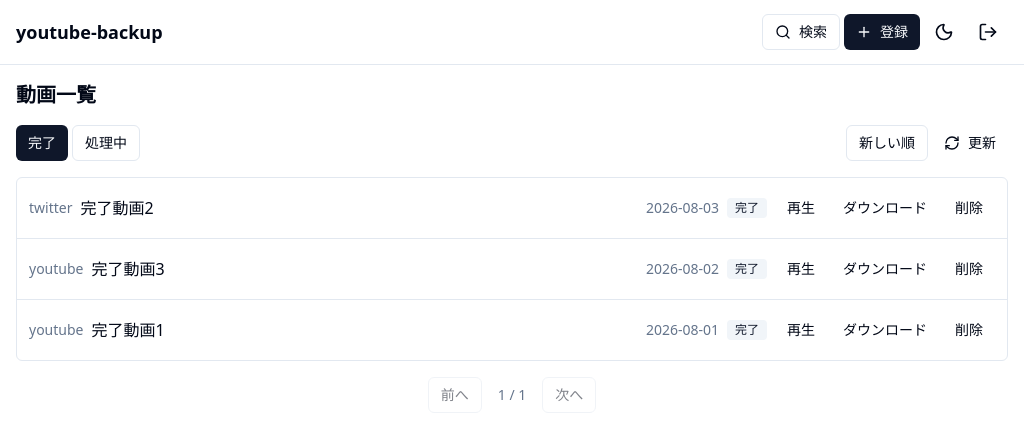
Test: VideoCatalog 結合（/videos / FR2.1〜2.4・FR8・US2.1〜2.5） › 状態フィルタを init へ切り替えると処理中一覧へ再取得する（US2.2 / FR2.2）
Check: the text "完了動画2" is shown, box [80,197,154,219]
What coordinates should you click on to do the following:
click the button "処理中"
I would click on:
 (106, 143)
Its box is [72,125,140,161].
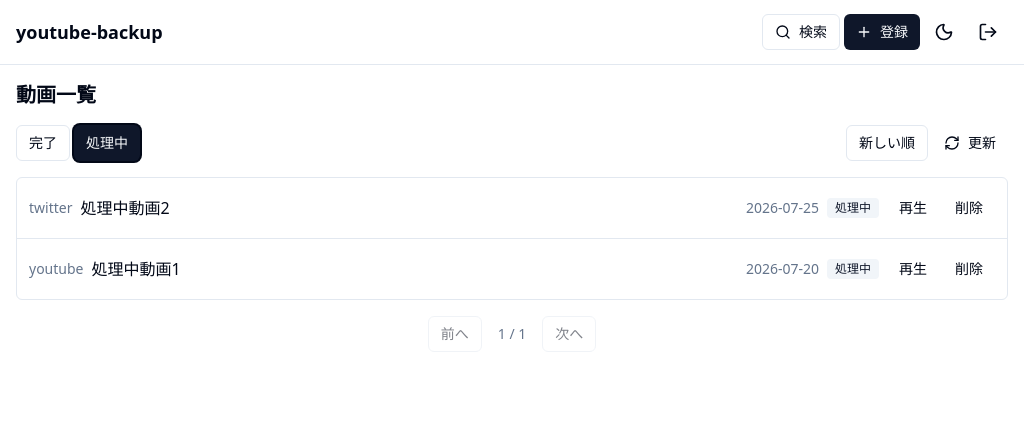
Check: the text "処理中動画2" is shown, box [80,197,170,219]
Check: the text "処理中動画1" is shown, box [92,258,181,280]
Check: the text "完了動画2" is gone
